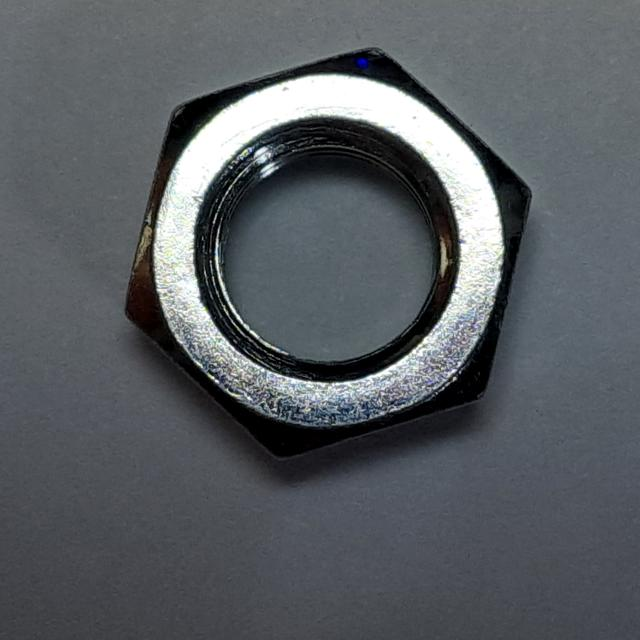Excellent: (111, 34, 556, 481)
